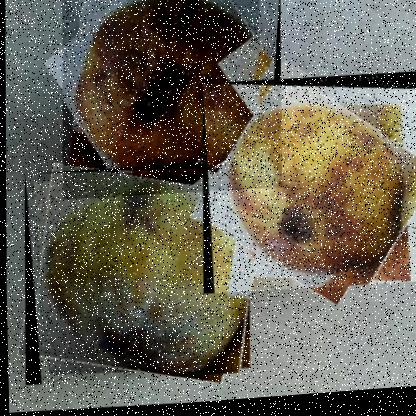guava_rotten: (19, 159, 251, 389), (196, 72, 415, 301), (56, 0, 285, 204)
